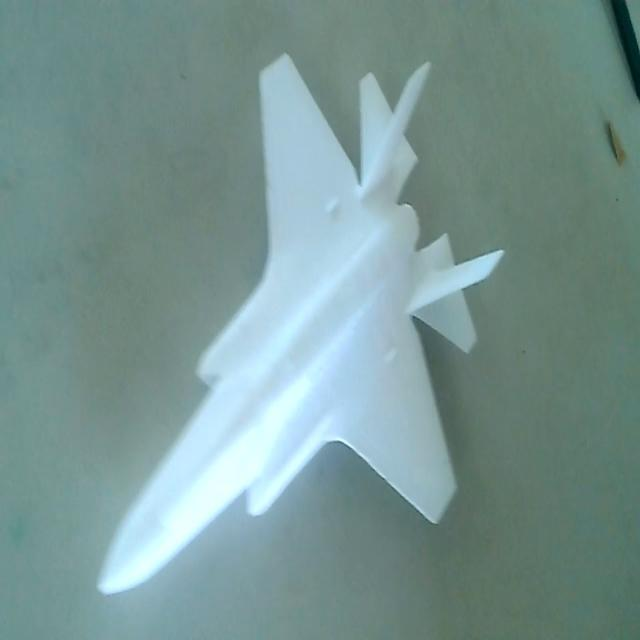Jet: (90, 48, 505, 608)
